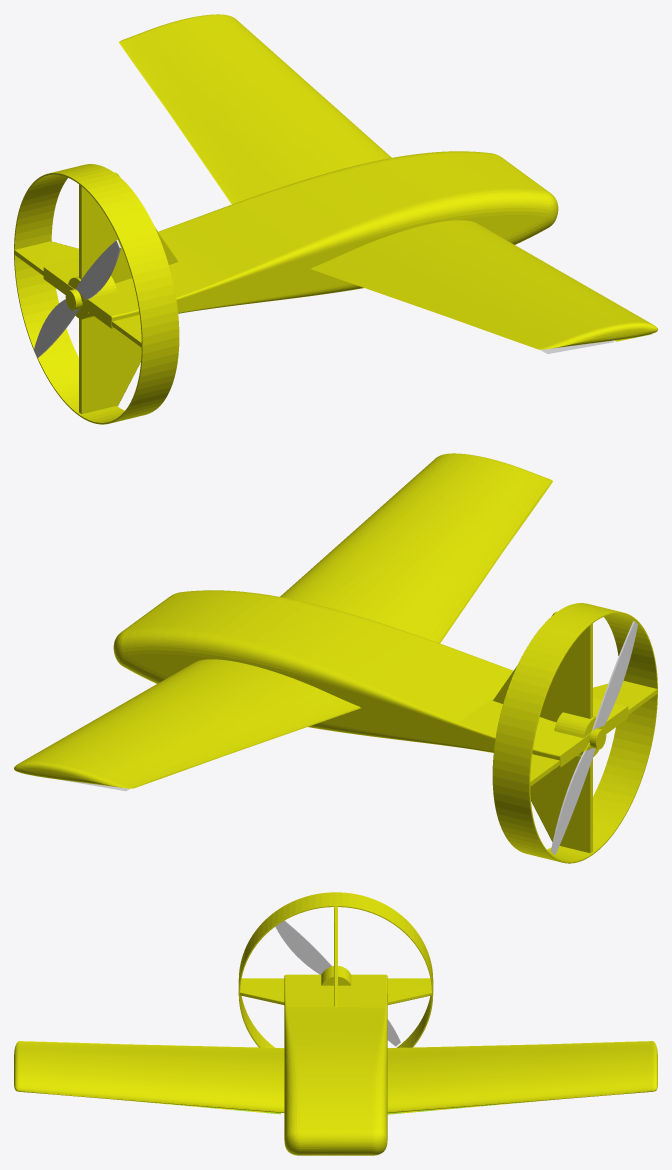
Rendered from Health Drone FBX OG.fbx.
The picture shows the model from 3 angles, top to bottom: view 1: azimuth 30°, elevation 25°; view 2: azimuth 150°, elevation 25°; view 3: azimuth 270°, elevation 25°; orthographic projection. The views are drawn at different scales.
Parts seen in each view (by area): view 1: HealthDrone - Wings, HealthDrone - Body, HealthDrone - Tail, HealthDrone - Rotor; view 2: HealthDrone - Wings, HealthDrone - Body, HealthDrone - Tail, HealthDrone - Rotor; view 3: HealthDrone - Wings, HealthDrone - Body, HealthDrone - Tail, HealthDrone - Rotor.
Boxes of the visible parts, left/top/right/bottom form: HealthDrone - Wings: left=119, top=14, right=657, bottom=349; HealthDrone - Body: left=43, top=151, right=558, bottom=328; HealthDrone - Tail: left=14, top=164, right=179, bottom=424; HealthDrone - Rotor: left=34, top=240, right=120, bottom=357; HealthDrone - Wings: left=14, top=453, right=552, bottom=788; HealthDrone - Body: left=113, top=590, right=628, bottom=767; HealthDrone - Tail: left=492, top=603, right=657, bottom=863; HealthDrone - Rotor: left=551, top=621, right=637, bottom=854; HealthDrone - Wings: left=14, top=1041, right=657, bottom=1112; HealthDrone - Body: left=283, top=974, right=388, bottom=1155; HealthDrone - Tail: left=238, top=892, right=433, bottom=1047; HealthDrone - Rotor: left=275, top=920, right=400, bottom=1046.
Bounding box in the file's own units: 103 × 49.83 × 165.
